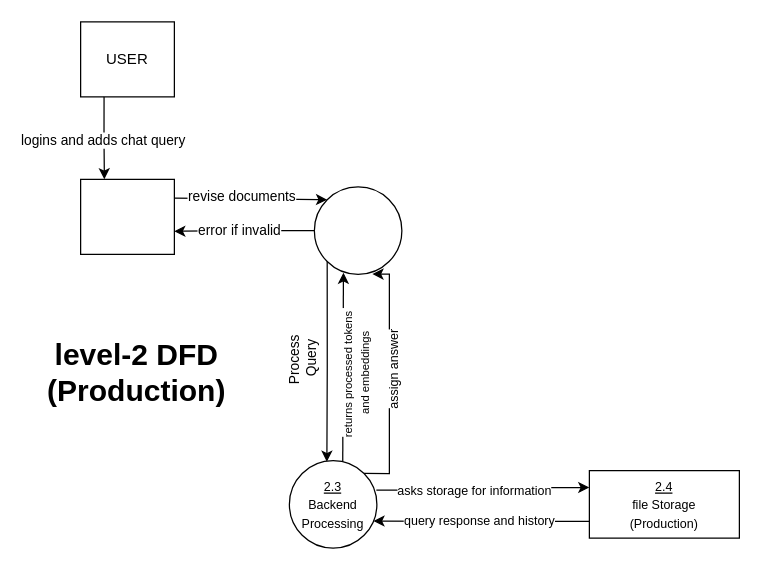
Image size: 763x570. Some labels were removed from this diagram. The box of each missing label's shape, as (x1, y1, x2, y2) in pixels:
2.1 RAG Chatbot: (79, 178, 174, 254)
2.2 doc validation: (313, 186, 402, 274)
